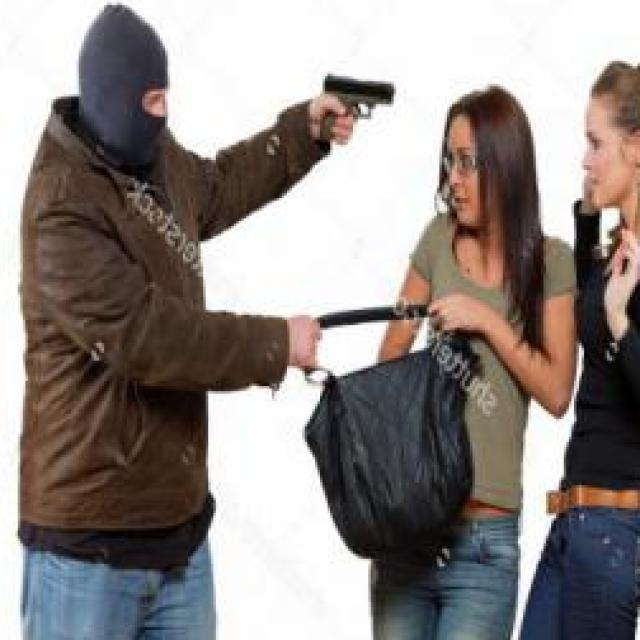pistol: (316, 74, 399, 141)
